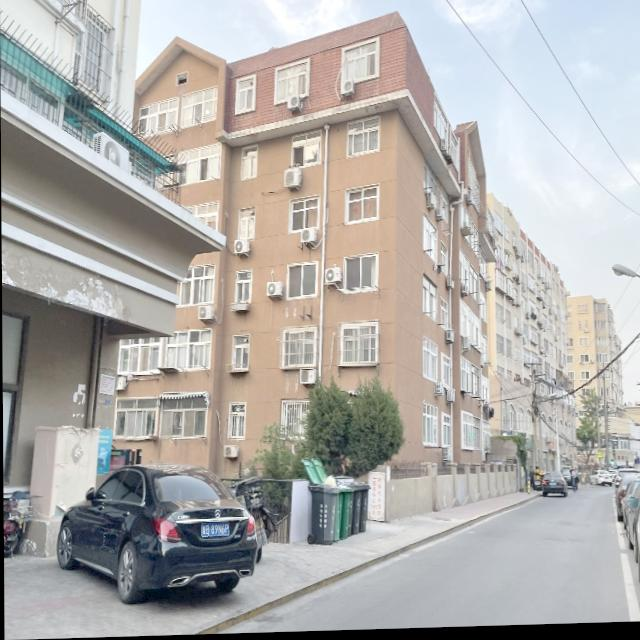garbage_bin: (307, 484, 338, 547), (358, 483, 370, 534), (350, 485, 361, 536)
overflow: (323, 476, 343, 543), (338, 486, 351, 540)
